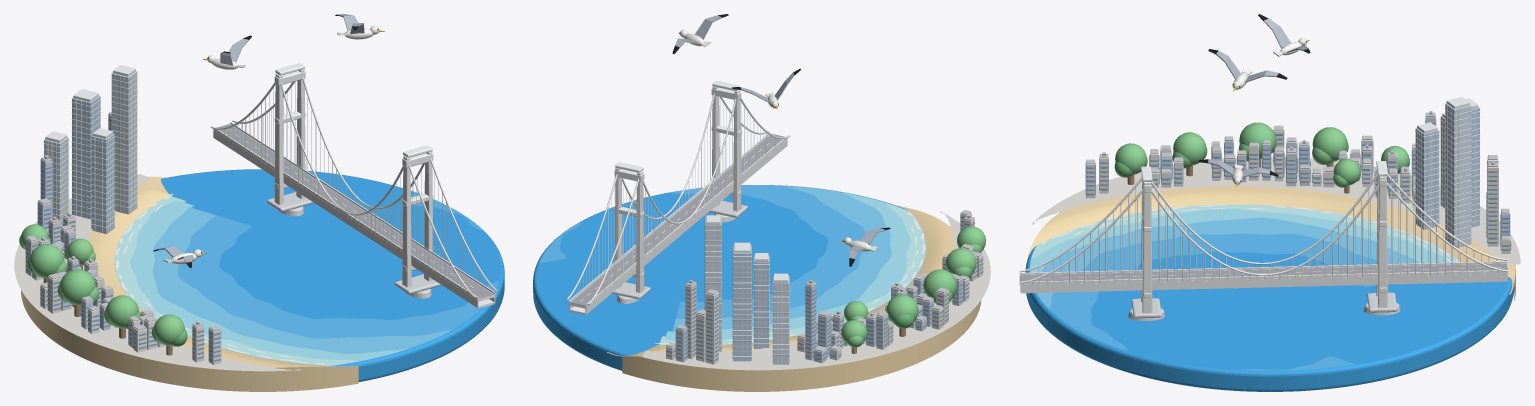
Rendered from gwangali.glb.
The picture shows the model from 3 angles, left to right: view 1: azimuth 30°, elevation 25°; view 2: azimuth 150°, elevation 25°; view 3: azimuth 270°, elevation 25°; orthographic projection. The views are drawn at different scales.
Visible parts, largest first — view 1: GL_Water, GL_WaterBands, GL_Towers, GL_Beach, GL_City, GL_Trees, GL_BrTowers, GL_CityGround, GL_BrDeck, GL_BrHangers, GL_BrRoad, GL_BrCables (+3 smaller); view 2: GL_Water, GL_WaterBands, GL_Beach, GL_City, GL_Towers, GL_CityGround, GL_BrTowers, GL_Trees, GL_BrHangers, GL_BrDeck, GL_BrRoad, GL_BrCables (+2 smaller); view 3: GL_Water, GL_WaterBands, GL_City, GL_Beach, GL_Towers, GL_BrDeck, GL_BrHangers, GL_CityGround, GL_Trees, GL_BrCables, GL_BrRoad, GL_BrTowers (+3 smaller).
Boxes of the visible parts, <box> form: GL_Water: <box>114,169,504,381</box>; GL_WaterBands: <box>114,191,498,365</box>; GL_Towers: <box>43,65,137,234</box>; GL_Beach: <box>21,176,374,391</box>; GL_City: <box>25,112,221,364</box>; GL_Trees: <box>19,224,187,355</box>; GL_BrTowers: <box>274,63,433,287</box>; GL_CityGround: <box>14,174,300,371</box>; GL_BrDeck: <box>213,122,495,308</box>; GL_BrHangers: <box>216,81,491,295</box>; GL_BrRoad: <box>216,124,493,298</box>; GL_BrCables: <box>210,76,497,297</box>; GL_Water: <box>533,185,925,370</box>; GL_WaterBands: <box>539,185,925,344</box>; GL_Beach: <box>607,205,981,391</box>; GL_City: <box>666,210,983,364</box>; GL_Towers: <box>704,215,789,364</box>; GL_CityGround: <box>642,211,990,370</box>; GL_BrTowers: <box>614,80,741,292</box>; GL_Trees: <box>841,226,985,353</box>; GL_BrHangers: <box>571,97,785,303</box>; GL_BrDeck: <box>568,132,787,314</box>; GL_BrRoad: <box>570,134,785,305</box>; GL_BrCables: <box>566,93,790,305</box>; GL_Water: <box>1025,234,1514,391</box>; GL_WaterBands: <box>1030,204,1457,370</box>; GL_City: <box>1085,111,1511,253</box>; GL_Beach: <box>1025,186,1515,300</box>; GL_Towers: <box>1415,97,1480,247</box>; GL_BrDeck: <box>1019,261,1507,293</box>; GL_BrHangers: <box>1030,181,1498,284</box>; GL_CityGround: <box>1031,157,1520,265</box>; GL_Trees: <box>1114,122,1410,193</box>; GL_BrCables: <box>1019,172,1508,283</box>; GL_BrRoad: <box>1019,263,1507,281</box>; GL_BrTowers: <box>1141,161,1387,313</box>.
Bounding box in the file's own units: 6.15 × 3.69 × 6.19.
